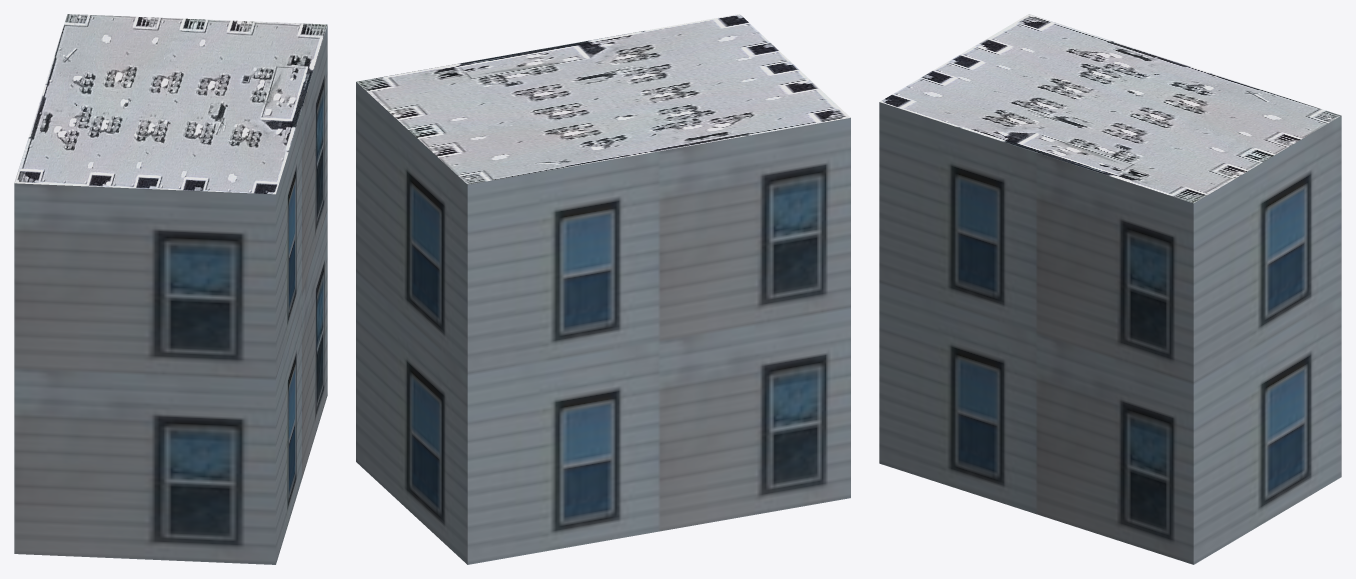
The model's file is ResTex__3916.fbx.
3 views of the same model, side by side, from view 1: azimuth 30°, elevation 25°; view 2: azimuth 150°, elevation 25°; view 3: azimuth 270°, elevation 25° (orthographic). The views are drawn at different scales.
Parts seen in each view (by area): view 1: CityEngineMaterial_18_m, CityEngineMaterial_8_m; view 2: CityEngineMaterial_18_m, CityEngineMaterial_8_m; view 3: CityEngineMaterial_18_m, CityEngineMaterial_8_m.
Part boxes in pixels (x1,y1,x2,y2): CityEngineMaterial_18_m: (14,25,327,564); CityEngineMaterial_8_m: (14,14,327,194); CityEngineMaterial_18_m: (356,82,850,564); CityEngineMaterial_8_m: (356,14,850,184); CityEngineMaterial_18_m: (879,102,1341,564); CityEngineMaterial_8_m: (880,14,1341,203).
Size of the model in its own units: 6.74 by 6 by 6.95.
Materials: 2 (2 with a texture image).
